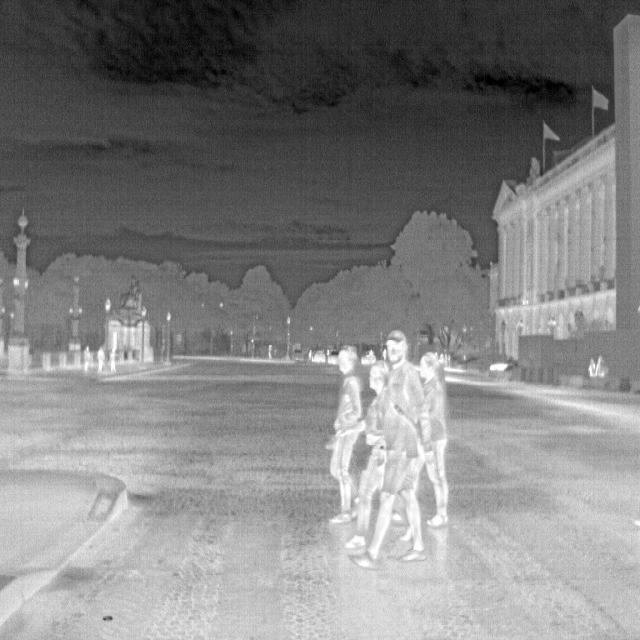Pedestrian: (347, 326, 433, 571), (395, 354, 452, 530), (324, 344, 366, 524), (349, 362, 389, 548)
